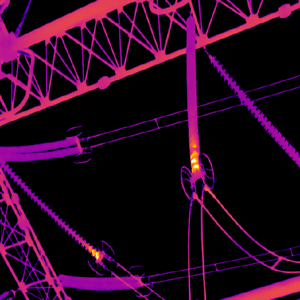insulator: (208, 54, 300, 166), (1, 161, 99, 259), (184, 15, 201, 171), (0, 134, 81, 161), (56, 271, 141, 290)
